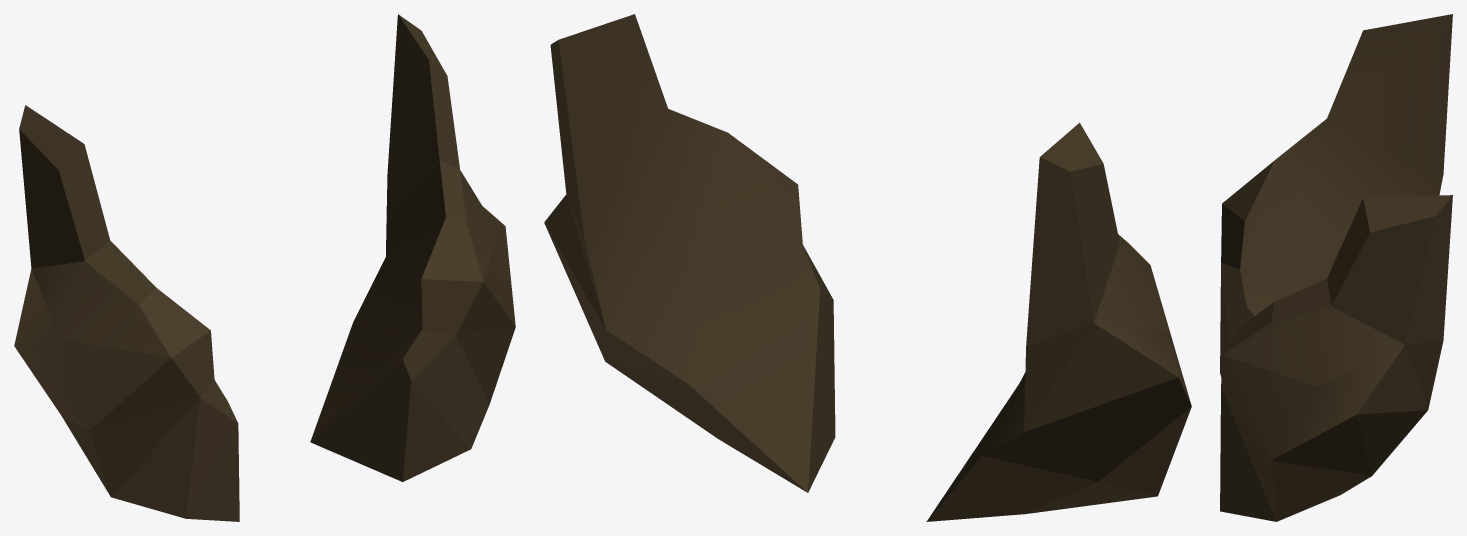
File: Chr_FacialHair_Male_17_Static.fbx
3 views of the same model, side by side, from view 1: azimuth 30°, elevation 25°; view 2: azimuth 150°, elevation 25°; view 3: azimuth 270°, elevation 25° (orthographic). The views are drawn at different scales.
Visible parts, largest first — view 1: Chr_FacialHair_Male_17_Static; view 2: Chr_FacialHair_Male_17_Static; view 3: Chr_FacialHair_Male_17_Static.
Boxes of the visible parts, x1,y1,x2,y2 form: Chr_FacialHair_Male_17_Static: [14, 14, 515, 521]; Chr_FacialHair_Male_17_Static: [544, 14, 1191, 521]; Chr_FacialHair_Male_17_Static: [1220, 14, 1452, 521].
Bounding box in the file's own units: 0.2906 × 0.2047 × 0.1198.
